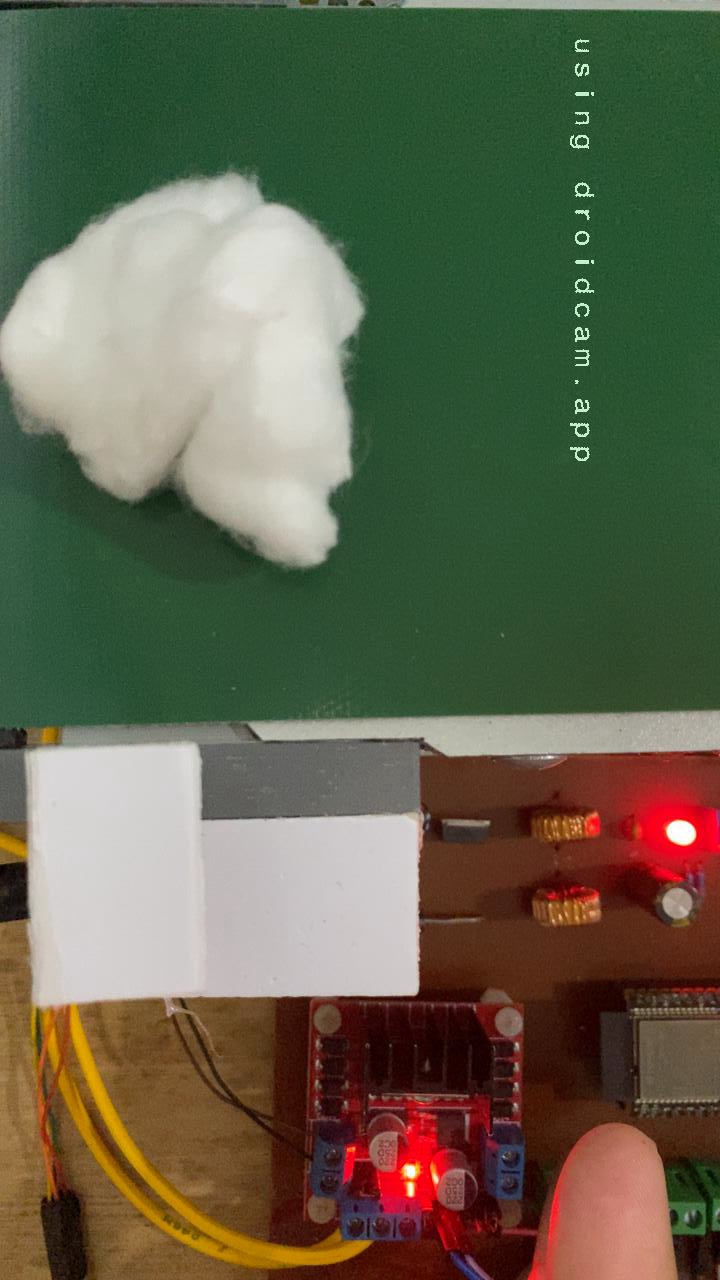cotton: (0, 166, 372, 573)
